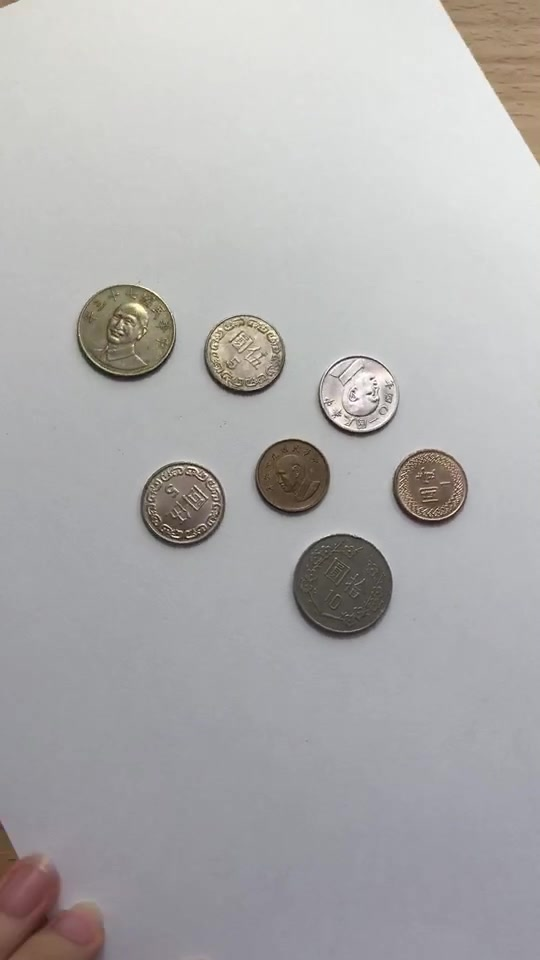1 dallar: (244, 432, 340, 523), (385, 442, 481, 533)
10 dallar: (69, 261, 185, 386), (283, 529, 399, 654)
5 dallar: (126, 459, 240, 553), (193, 310, 293, 400), (309, 349, 409, 439)
